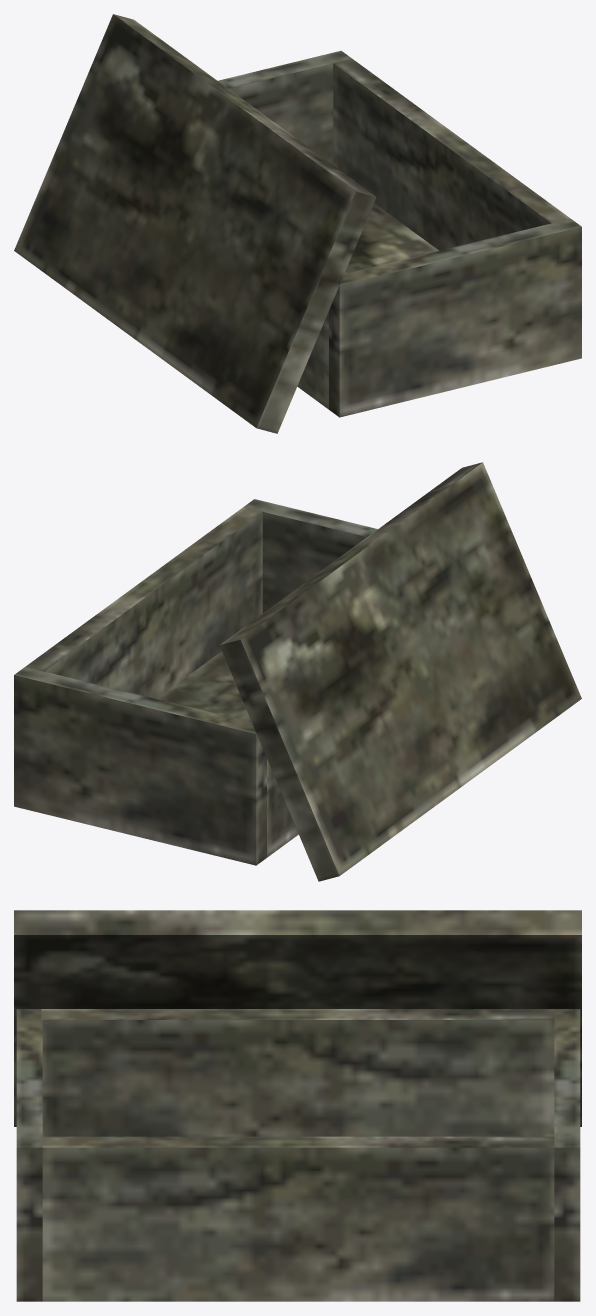
The picture shows the model from 3 angles, top to bottom: view 1: azimuth 30°, elevation 25°; view 2: azimuth 150°, elevation 25°; view 3: azimuth 270°, elevation 25°; orthographic projection. The views are drawn at different scales.
Visible parts, largest first — view 1: ob-12-14; view 2: ob-12-14; view 3: ob-12-14.
Boxes of the visible parts, x1=… form: ob-12-14: x1=14, y1=14, x2=581, y2=433; ob-12-14: x1=14, y1=462, x2=581, y2=881; ob-12-14: x1=14, y1=910, x2=581, y2=1301.
Size of the model in its own units: 2.14 by 1.4 by 2.75.
